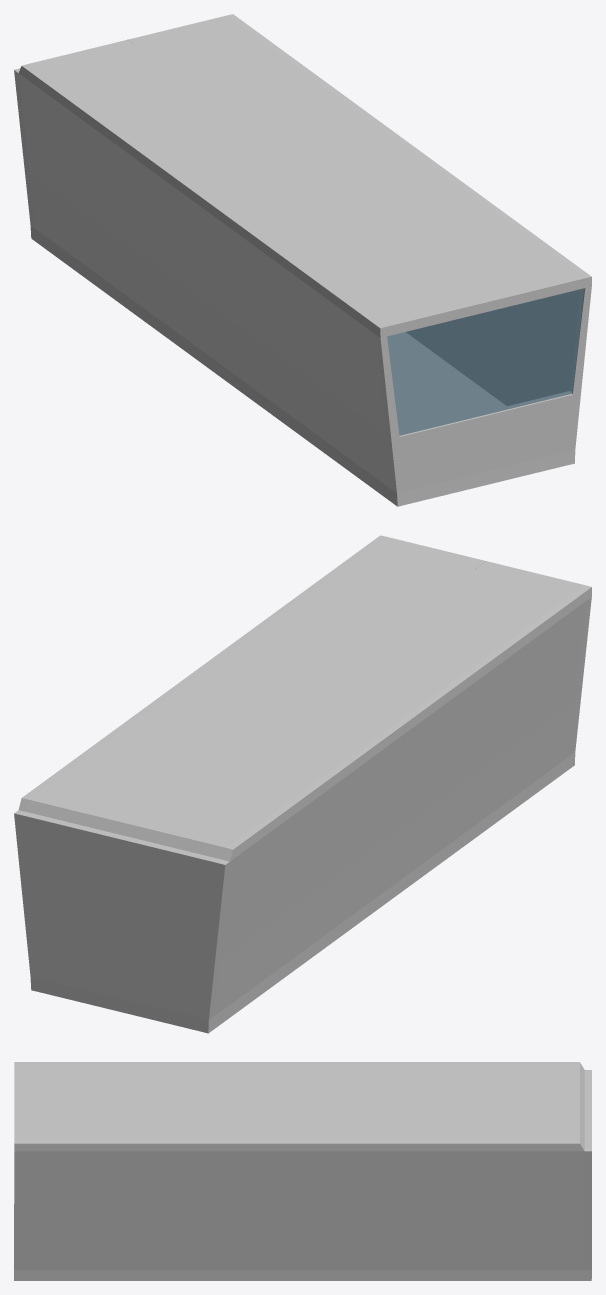
File: Bus.fbx
3 views of the same model, one above another, from view 1: azimuth 30°, elevation 25°; view 2: azimuth 150°, elevation 25°; view 3: azimuth 270°, elevation 25° (orthographic). The views are drawn at different scales.
Visible parts, largest first — view 1: BusHull, Window; view 2: BusHull; view 3: BusHull.
Part boxes in pixels (x1,y1,x2,y2): BusHull: (14, 14, 591, 506); Window: (387, 288, 583, 435); BusHull: (14, 535, 591, 1033); BusHull: (14, 1062, 591, 1280).
Size of the model in its own units: 533 by 440 by 1601.
